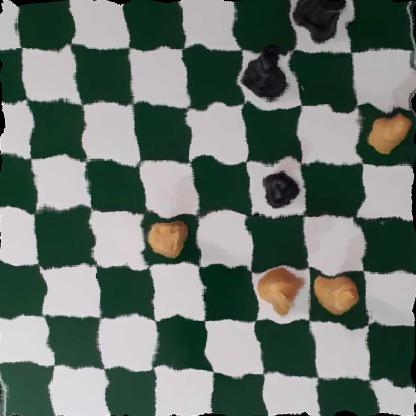black-king: (237, 38, 294, 101)
black-pawn: (256, 167, 300, 207)
black-rook: (293, 0, 350, 41)
white-bishop: (311, 269, 361, 314)
white-king: (253, 267, 306, 315)
white-pawn: (365, 105, 412, 151)
white-rook: (144, 216, 191, 262)
